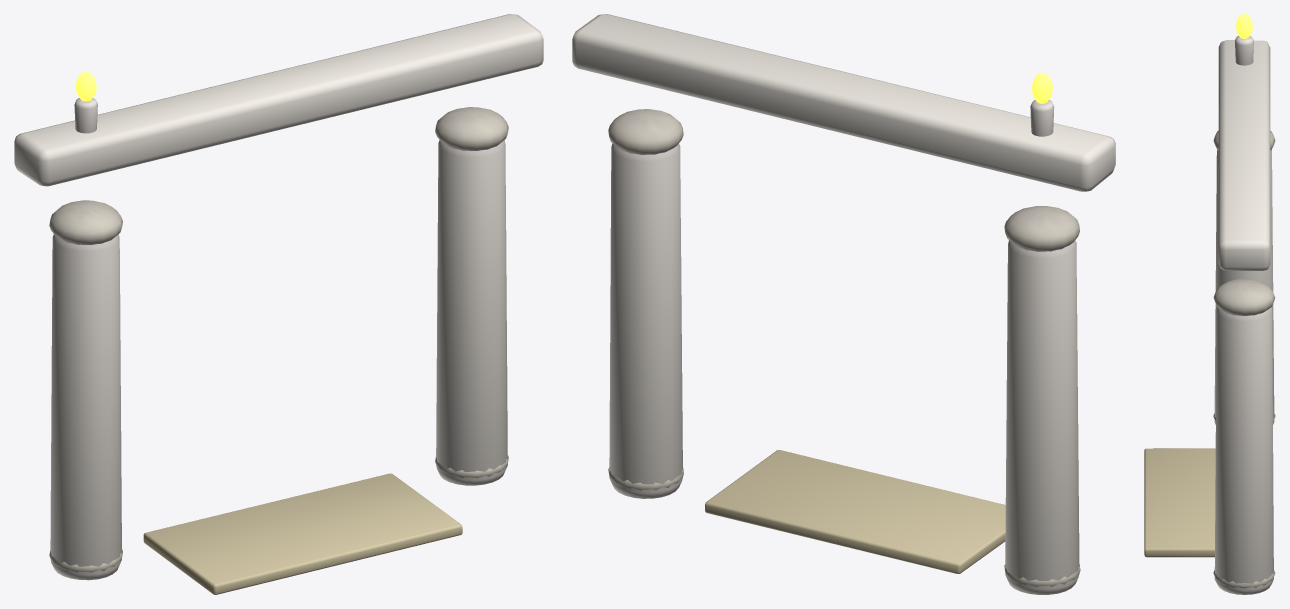
3 renders of one model, left to right at view 1: azimuth 30°, elevation 25°; view 2: azimuth 150°, elevation 25°; view 3: azimuth 270°, elevation 25°, orthographic. The views are drawn at different scales.
Parts seen in each view (by area): view 1: gate_fb097c91; view 2: gate_fb097c91; view 3: gate_fb097c91.
Boxes of the visible parts, bbox=[...] form: gate_fb097c91: bbox=[14, 14, 543, 594]; gate_fb097c91: bbox=[572, 14, 1115, 594]; gate_fb097c91: bbox=[1144, 14, 1275, 594].
Size of the model in its own units: 4.87 by 4.58 by 1.31.
